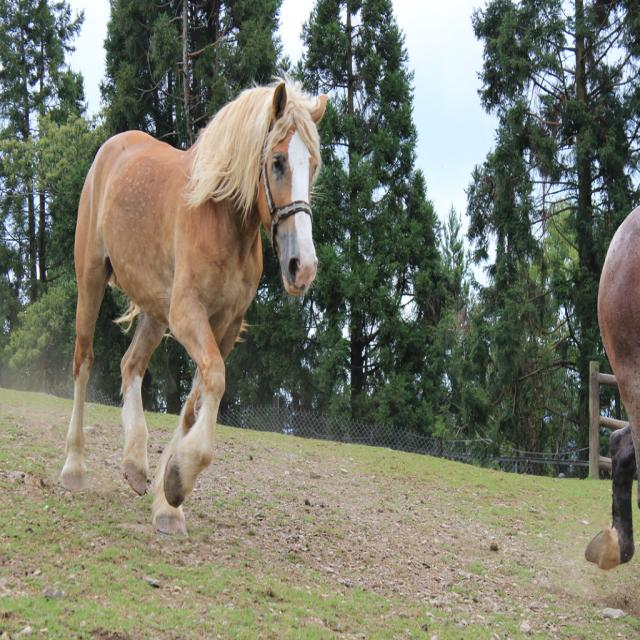Horse: (60, 67, 327, 545)
